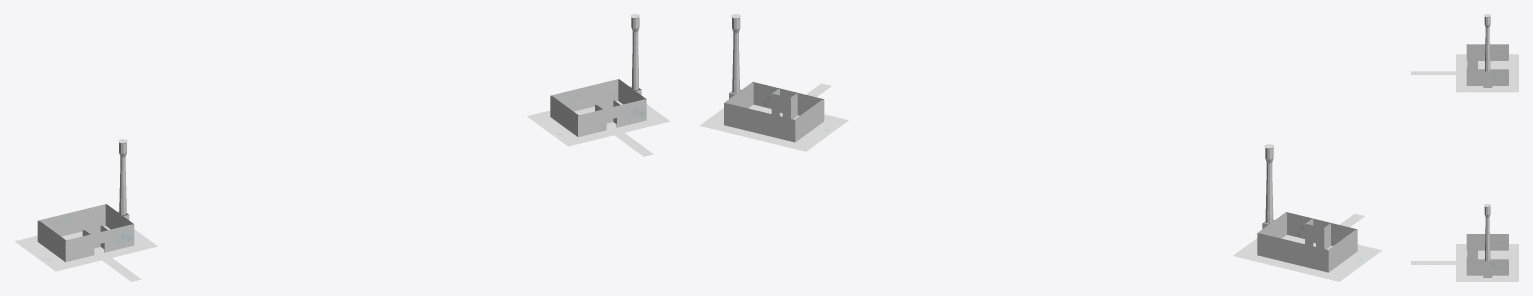
The model's file is Winter1880.glb.
The picture shows the model from 3 angles, left to right: view 1: azimuth 30°, elevation 25°; view 2: azimuth 150°, elevation 25°; view 3: azimuth 270°, elevation 25°; orthographic projection. The views are drawn at different scales.
Parts seen in each view (by area): view 1: StaticFloor.001, StaticFloor, StaticBuilding.016, StaticBuilding.001, StaticBuilding.012, StaticBuilding.028, StaticBuilding.013, StaticBuilding.002, StaticBuilding.029, StaticBuilding.019, StaticBuilding.021, StaticBuilding.006; view 2: StaticFloor, StaticFloor.001, StaticBuilding.016, StaticBuilding.001, StaticBuilding.002, StaticBuilding.019, StaticBuilding.006, StaticBuilding.021, StaticBuilding.028, StaticBuilding.012; view 3: StaticFloor, StaticFloor.001, StaticBuilding.019, StaticBuilding.002, StaticBuilding.006, StaticBuilding.021, StaticBuilding.025, StaticBuilding.004, StaticBuilding.026, StaticBuilding.010, StaticBuilding.022, StaticBuilding.007 (+2 smaller).
Boxes of the visible parts, x1,y1,x2,y2 form: StaticFloor.001: (527,101,670,156); StaticFloor: (14,226,157,281); StaticBuilding.016: (550,79,618,111); StaticBuilding.001: (38,204,106,236); StaticBuilding.012: (104,224,134,252); StaticBuilding.028: (616,99,646,127); StaticBuilding.013: (65,234,94,261); StaticBuilding.002: (37,221,66,261); StaticBuilding.029: (578,109,606,136); StaticBuilding.019: (550,96,578,136); StaticBuilding.021: (630,14,639,89); StaticBuilding.006: (118,139,127,215); StaticFloor: (1233,213,1381,281); StaticFloor.001: (699,83,848,151); StaticBuilding.016: (724,103,795,142); StaticBuilding.001: (1257,233,1328,272); StaticBuilding.002: (1328,229,1357,272); StaticBuilding.019: (795,99,824,142); StaticBuilding.006: (1264,144,1274,223); StaticBuilding.021: (731,14,740,93); StaticBuilding.028: (752,82,783,108); StaticBuilding.012: (1286,212,1316,238); StaticFloor: (1411,54,1518,92); StaticFloor.001: (1411,244,1518,281); StaticBuilding.019: (1466,234,1508,250); StaticBuilding.002: (1466,44,1508,60); StaticBuilding.006: (1484,14,1491,71); StaticBuilding.021: (1484,204,1490,261); StaticBuilding.025: (1466,259,1485,275); StaticBuilding.004: (1466,69,1485,85); StaticBuilding.026: (1489,259,1508,275); StaticBuilding.010: (1489,69,1508,85); StaticBuilding.022: (1483,261,1492,277); StaticBuilding.007: (1483,71,1492,87).
Size of the model in its own units: 600 by 87.44 by 120.
1 material, 1 textured.
